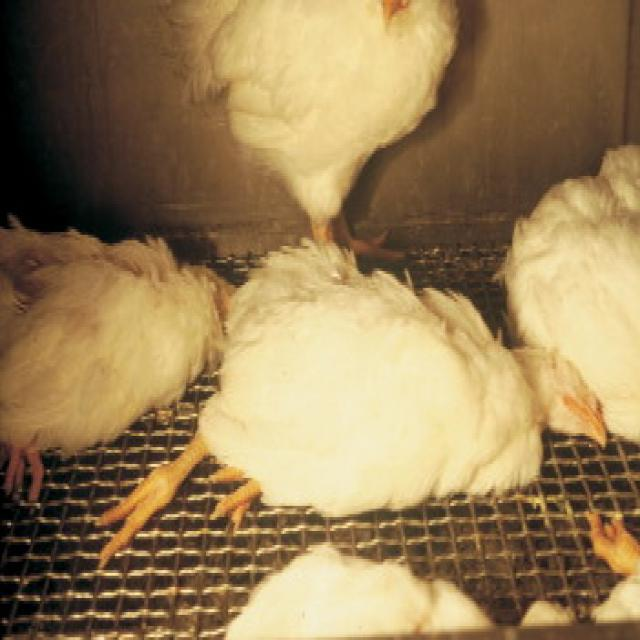Unhealthy: (105, 240, 613, 543)
